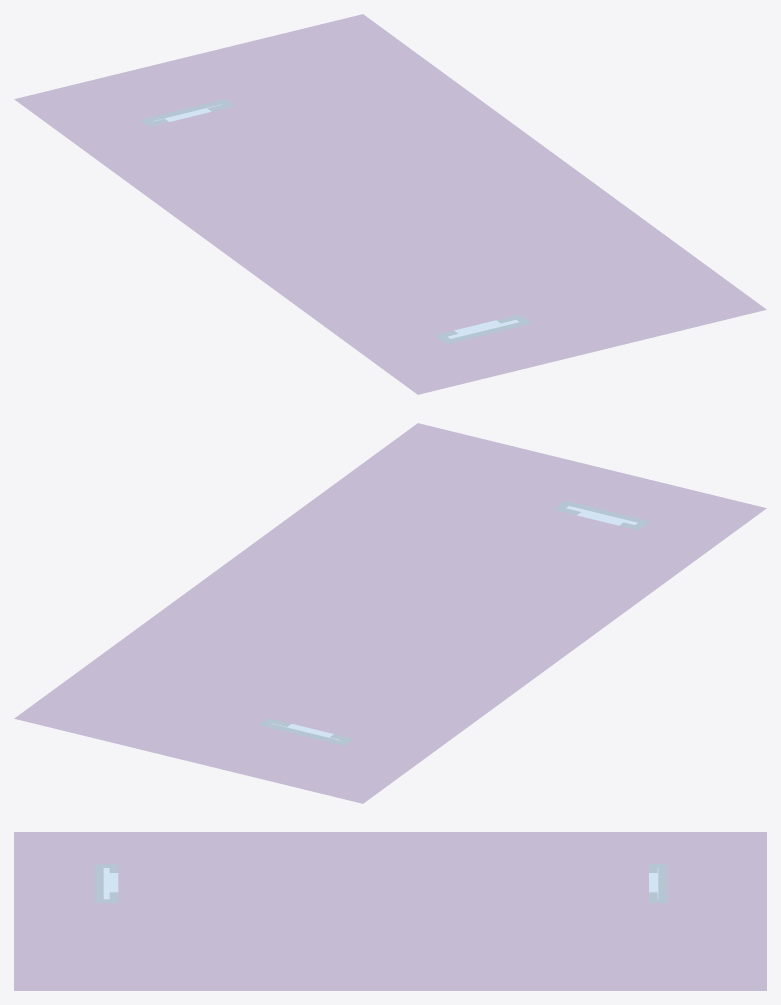
Rendered from ground.glb.
3 views of the same model, one above another, from view 1: azimuth 30°, elevation 25°; view 2: azimuth 150°, elevation 25°; view 3: azimuth 270°, elevation 25° (orthographic). The views are drawn at different scales.
Visible parts, largest first — view 1: Ground_node, Object_node; view 2: Ground_node, Object_node; view 3: Ground_node, Object_node.
Part boxes in pixels (box(x1,y1,x2,y2)): Ground_node: box(14, 14, 766, 394); Object_node: box(140, 99, 531, 344); Ground_node: box(14, 423, 766, 803); Object_node: box(259, 500, 650, 745); Ground_node: box(14, 832, 766, 990); Object_node: box(95, 864, 666, 902).
Bounding box in the file's own units: 6.59 × 0.018 × 13.21.
